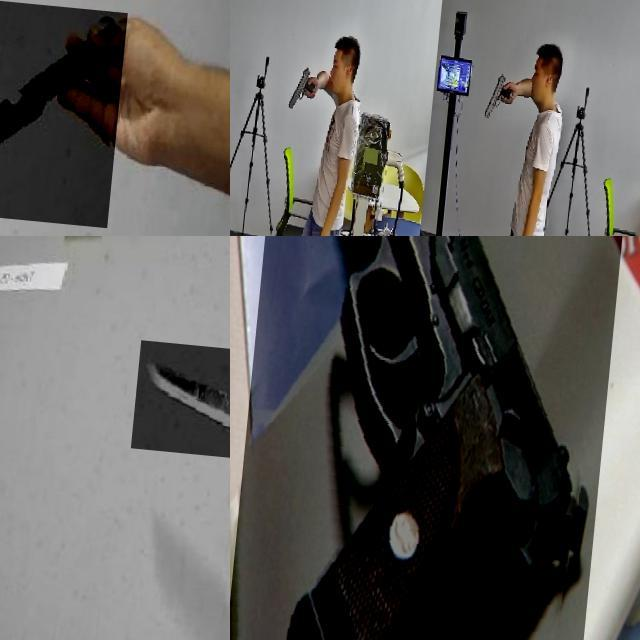-: (0, 0, 131, 219), (136, 336, 230, 460)
gun-knife-thesis - v11 Yolov5 augmented: (236, 236, 639, 640), (492, 60, 523, 112), (296, 58, 326, 109), (530, 0, 557, 27), (365, 0, 389, 25)
